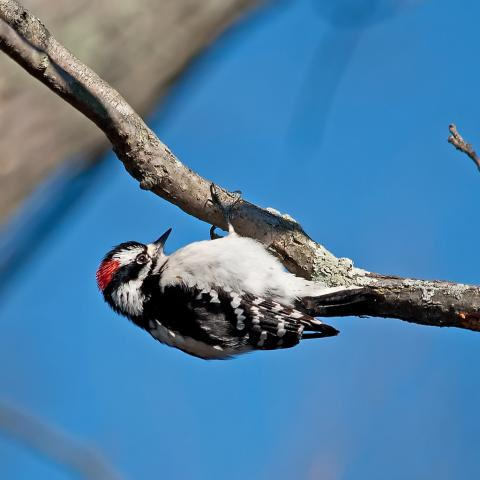bird: (93, 226, 343, 362)
